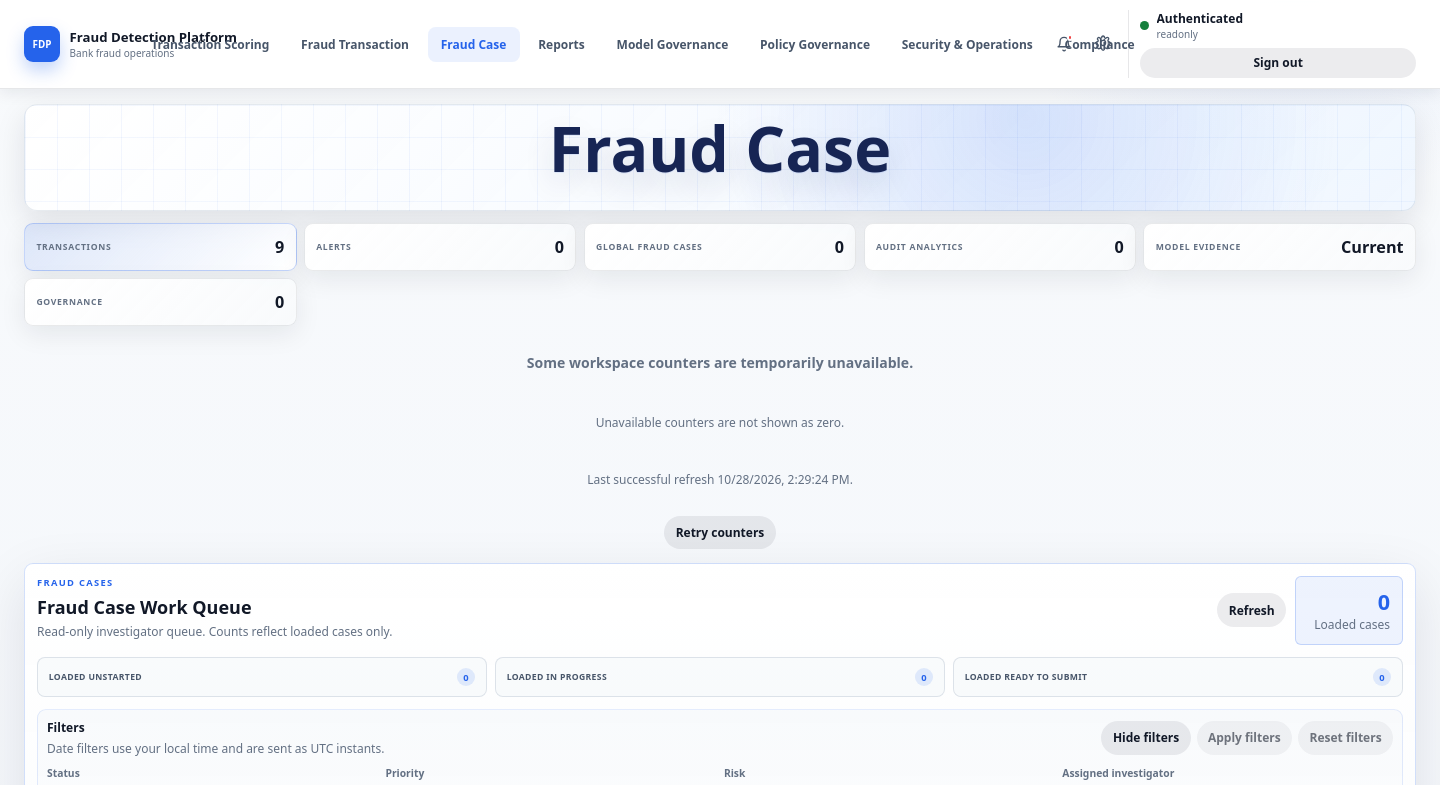
Test case: App › clears degraded counter state on session boundary reset
Expected: the heading "Some workspace counters are temporarily unavailable." is shown, top-left (527, 353), bottom-right (913, 372)
Click the button "Sign out" at [1278, 63], box top-left (1140, 48), bottom-right (1416, 78)
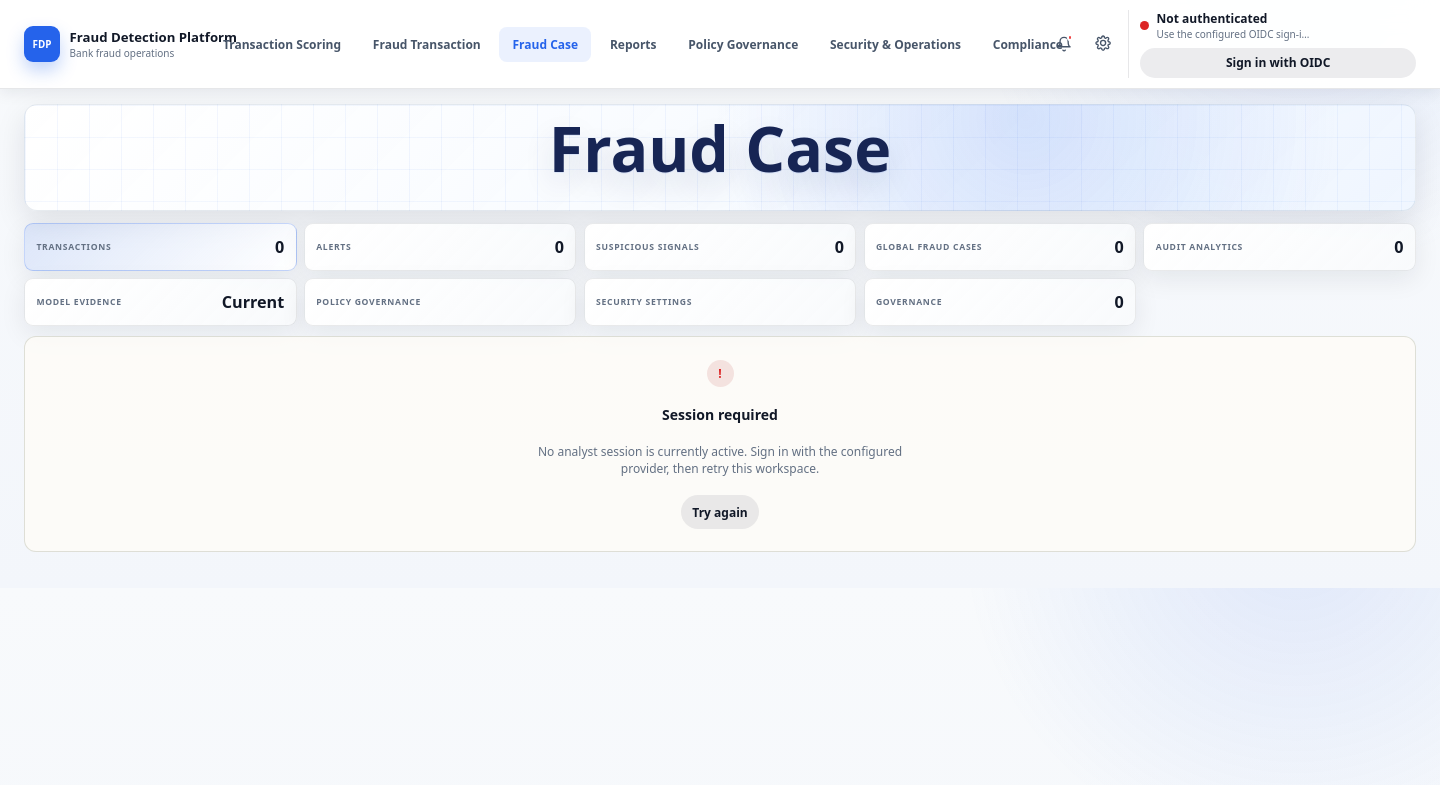
Now the heading "Some workspace counters are temporarily unavailable." is gone
